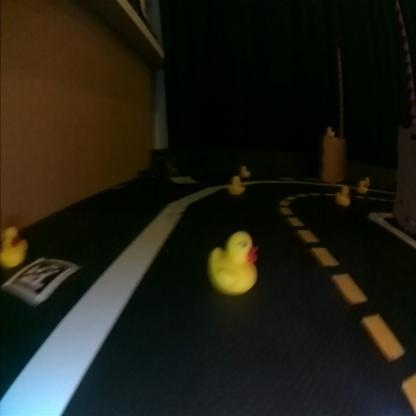Duckie: (210, 232, 259, 286), (2, 228, 28, 267), (230, 174, 246, 194), (337, 188, 351, 206), (240, 164, 250, 176), (359, 180, 368, 192), (328, 126, 334, 136), (364, 177, 371, 184)
QR code: (4, 256, 80, 304)
